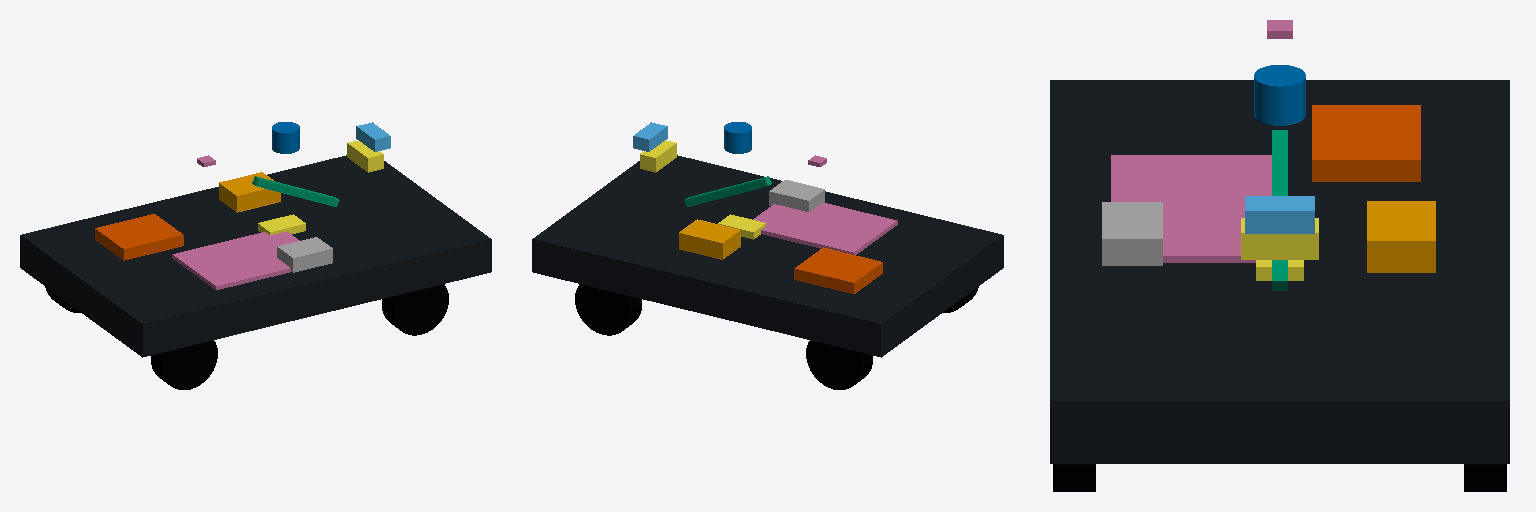
URDF robot description (autokart):
<?xml version="1.0"?>
<!-- Generated dependency-free structural URDF. SIMULATION USE ONLY; MEASUREMENT REQUIRED. -->
<robot name="autokart">
  <material name="frame"><color rgba="0.12 0.14 0.16 1"/></material>
  <material name="body"><color rgba="0.85 0.08 0.04 1"/></material>
  <material name="rubber"><color rgba="0.02 0.02 0.02 1"/></material>
  <link name="base_link"/>
  <link name="chassis_link"><inertial><origin xyz="0.05 0 0.30"/><mass value="91.95"/><inertia ixx="24" ixy="0" ixz="0" iyy="35" iyz="0" izz="35"/></inertial><visual><origin xyz="0.05 0 0.30"/><geometry><box size="1.75 1.06 0.16"/></geometry><material name="frame"/></visual><collision><origin xyz="0.05 0 0.30"/><geometry><box size="1.75 1.06 0.16"/></geometry></collision></link>
  <link name="front_axle_link"><inertial><mass value="3"/><inertia ixx=".2" ixy="0" ixz="0" iyy=".02" iyz="0" izz=".2"/></inertial><visual><geometry><box size=".08 .95 .08"/></geometry></visual><collision><geometry><box size=".08 .95 .08"/></geometry></collision></link>
  <link name="front_left_steer_link"><inertial><mass value=".8"/><inertia ixx=".01" ixy="0" ixz="0" iyy=".01" iyz="0" izz=".01"/></inertial><visual><geometry><box size=".10 .08 .16"/></geometry></visual><collision><geometry><box size=".10 .08 .16"/></geometry></collision></link>
  <link name="front_right_steer_link"><inertial><mass value=".8"/><inertia ixx=".01" ixy="0" ixz="0" iyy=".01" iyz="0" izz=".01"/></inertial><visual><geometry><box size=".10 .08 .16"/></geometry></visual><collision><geometry><box size=".10 .08 .16"/></geometry></collision></link>
  <link name="front_left_wheel_link"><inertial><mass value="2.2"/><inertia ixx=".025" ixy="0" ixz="0" iyy=".012" iyz="0" izz=".025"/></inertial><visual><origin rpy="1.570796 0 0"/><geometry><cylinder radius=".14" length=".10"/></geometry><material name="rubber"/></visual><collision><origin rpy="1.570796 0 0"/><geometry><cylinder radius=".14" length=".10"/></geometry></collision></link>
  <link name="front_right_wheel_link"><inertial><mass value="2.2"/><inertia ixx=".025" ixy="0" ixz="0" iyy=".012" iyz="0" izz=".025"/></inertial><visual><origin rpy="1.570796 0 0"/><geometry><cylinder radius=".14" length=".10"/></geometry><material name="rubber"/></visual><collision><origin rpy="1.570796 0 0"/><geometry><cylinder radius=".14" length=".10"/></geometry></collision></link>
  <link name="rear_axle_link"><inertial><mass value="3"/><inertia ixx=".12" ixy="0" ixz="0" iyy=".12" iyz="0" izz=".12"/></inertial><visual><origin rpy="1.570796 0 0"/><geometry><cylinder radius=".025" length=".92"/></geometry></visual><collision><origin rpy="1.570796 0 0"/><geometry><cylinder radius=".025" length=".92"/></geometry></collision></link>
  <link name="rear_left_wheel_link"><inertial><mass value="2.4"/><inertia ixx=".025" ixy="0" ixz="0" iyy=".012" iyz="0" izz=".025"/></inertial><visual><origin rpy="1.570796 0 0"/><geometry><cylinder radius=".14" length=".10"/></geometry><material name="rubber"/></visual><collision><origin rpy="1.570796 0 0"/><geometry><cylinder radius=".14" length=".10"/></geometry></collision></link>
  <link name="rear_right_wheel_link"><inertial><mass value="2.4"/><inertia ixx=".025" ixy="0" ixz="0" iyy=".012" iyz="0" izz=".025"/></inertial><visual><origin rpy="1.570796 0 0"/><geometry><cylinder radius=".14" length=".10"/></geometry><material name="rubber"/></visual><collision><origin rpy="1.570796 0 0"/><geometry><cylinder radius=".14" length=".10"/></geometry></collision></link>
  <link name="steering_column_link"><inertial><mass value="1.2"/><inertia ixx=".01" ixy="0" ixz="0" iyy=".03" iyz="0" izz=".03"/></inertial><visual><geometry><box size=".45 .035 .035"/></geometry></visual><collision><geometry><box size=".45 .035 .035"/></geometry></collision></link>
  <link name="steering_actuator_link"><inertial><mass value="1.5"/><inertia ixx=".01" ixy="0" ixz="0" iyy=".01" iyz="0" izz=".01"/></inertial><visual><geometry><box size=".18 .11 .11"/></geometry></visual><collision><geometry><box size=".18 .11 .11"/></geometry></collision></link>
  <link name="brake_actuator_link"><inertial><mass value="1.5"/><inertia ixx=".01" ixy="0" ixz="0" iyy=".01" iyz="0" izz=".01"/></inertial><visual><geometry><box size=".18 .12 .10"/></geometry></visual><collision><geometry><box size=".18 .12 .10"/></geometry></collision></link>
  <link name="motor_link"><inertial><mass value="8"/><inertia ixx=".08" ixy="0" ixz="0" iyy=".08" iyz="0" izz=".08"/></inertial><visual><geometry><box size=".30 .25 .25"/></geometry></visual><collision><geometry><box size=".30 .25 .25"/></geometry></collision></link>
  <link name="battery_link"><inertial><mass value="20"/><inertia ixx=".35" ixy="0" ixz="0" iyy=".6" iyz="0" izz=".7"/></inertial><visual><geometry><box size=".55 .38 .20"/></geometry></visual><collision><geometry><box size=".55 .38 .20"/></geometry></collision></link>
  <link name="vcu_link"><inertial><mass value="1"/><inertia ixx=".01" ixy="0" ixz="0" iyy=".01" iyz="0" izz=".01"/></inertial><visual><geometry><box size=".20 .14 .07"/></geometry></visual><collision><geometry><box size=".20 .14 .07"/></geometry></collision></link>
  <link name="compute_link"><inertial><mass value="1.8"/><inertia ixx=".02" ixy="0" ixz="0" iyy=".02" iyz="0" izz=".02"/></inertial><visual><geometry><box size=".22 .16 .08"/></geometry></visual><collision><geometry><box size=".22 .16 .08"/></geometry></collision></link>
  <link name="camera_link"><inertial><mass value=".2"/><inertia ixx=".001" ixy="0" ixz="0" iyy=".001" iyz="0" izz=".001"/></inertial><visual><geometry><box size=".08 .16 .06"/></geometry></visual><collision><geometry><box size=".08 .16 .06"/></geometry></collision></link>
  <link name="camera_optical_frame"/>
  <link name="depth_camera_link"><inertial><mass value=".25"/><inertia ixx=".001" ixy="0" ixz="0" iyy=".001" iyz="0" izz=".001"/></inertial><visual><geometry><box size=".08 .18 .07"/></geometry></visual><collision><geometry><box size=".08 .18 .07"/></geometry></collision></link>
  <link name="lidar_link"><inertial><mass value=".6"/><inertia ixx=".002" ixy="0" ixz="0" iyy=".002" iyz="0" izz=".002"/></inertial><visual><geometry><cylinder radius=".06" length=".10"/></geometry></visual><collision><geometry><cylinder radius=".06" length=".10"/></geometry></collision></link>
  <link name="imu_link"><inertial><mass value=".1"/><inertia ixx=".0001" ixy="0" ixz="0" iyy=".0001" iyz="0" izz=".0001"/></inertial><visual><geometry><box size=".05 .04 .02"/></geometry></visual><collision><geometry><box size=".05 .04 .02"/></geometry></collision></link>
  <link name="gps_link"><inertial><mass value=".1"/><inertia ixx=".0001" ixy="0" ixz="0" iyy=".0001" iyz="0" izz=".0001"/></inertial><visual><geometry><box size=".06 .06 .02"/></geometry></visual><collision><geometry><box size=".06 .06 .02"/></geometry></collision></link>

  <joint name="base_to_chassis" type="fixed"><parent link="base_link"/><child link="chassis_link"/></joint>
  <joint name="front_axle_mount" type="fixed"><parent link="chassis_link"/><child link="front_axle_link"/><origin xyz=".575 0 .14"/></joint>
  <joint name="front_left_steering_joint" type="revolute"><parent link="front_axle_link"/><child link="front_left_steer_link"/><origin xyz="0 .475 0"/><axis xyz="0 0 1"/><limit lower="-.558505" upper=".558505" effort="300" velocity="3"/></joint>
  <joint name="front_right_steering_joint" type="revolute"><parent link="front_axle_link"/><child link="front_right_steer_link"/><origin xyz="0 -.475 0"/><axis xyz="0 0 1"/><limit lower="-.558505" upper=".558505" effort="300" velocity="3"/></joint>
  <joint name="front_left_wheel_joint" type="continuous"><parent link="front_left_steer_link"/><child link="front_left_wheel_link"/><axis xyz="0 1 0"/></joint>
  <joint name="front_right_wheel_joint" type="continuous"><parent link="front_right_steer_link"/><child link="front_right_wheel_link"/><axis xyz="0 1 0"/></joint>
  <joint name="rear_solid_axle_joint" type="continuous"><parent link="chassis_link"/><child link="rear_axle_link"/><origin xyz="-.575 0 .14"/><axis xyz="0 1 0"/><dynamics damping=".2"/></joint>
  <joint name="rear_left_wheel_rigid_joint" type="fixed"><parent link="rear_axle_link"/><child link="rear_left_wheel_link"/><origin xyz="0 .46 0"/></joint>
  <joint name="rear_right_wheel_rigid_joint" type="fixed"><parent link="rear_axle_link"/><child link="rear_right_wheel_link"/><origin xyz="0 -.46 0"/></joint>
  <joint name="steering_column_joint" type="revolute"><parent link="chassis_link"/><child link="steering_column_link"/><origin xyz=".25 0 .55" rpy="0 .45 0"/><axis xyz="1 0 0"/><limit lower="-1.5" upper="1.5" effort="20" velocity="6"/></joint>
  <joint name="steering_actuator_joint" type="revolute"><parent link="chassis_link"/><child link="steering_actuator_link"/><origin xyz=".18 0 .36"/><axis xyz="1 0 0"/><limit lower="-1.5" upper="1.5" effort="20" velocity="6"/></joint>
  <joint name="brake_actuator_joint" type="prismatic"><parent link="chassis_link"/><child link="brake_actuator_link"/><origin xyz="-.05 .30 .28"/><axis xyz="1 0 0"/><limit lower="0" upper=".025" effort="4000" velocity=".3"/></joint>
  <joint name="motor_mount" type="fixed"><parent link="chassis_link"/><child link="motor_link"/><origin xyz="-.42 .20 .31"/></joint>
  <joint name="battery_mount" type="fixed"><parent link="chassis_link"/><child link="battery_link"/><origin xyz="-.10 -.20 .30"/></joint>
  <joint name="vcu_mount" type="fixed"><parent link="chassis_link"/><child link="vcu_link"/><origin xyz=".10 -.34 .42"/></joint>
  <joint name="compute_mount" type="fixed"><parent link="chassis_link"/><child link="compute_link"/><origin xyz=".18 .28 .45"/></joint>
  <joint name="camera_mount" type="fixed"><parent link="chassis_link"/><child link="camera_link"/><origin xyz=".64 0 .72"/></joint>
  <joint name="camera_optical_joint" type="fixed"><parent link="camera_link"/><child link="camera_optical_frame"/><origin rpy="-1.570796 0 -1.570796"/></joint>
  <joint name="depth_camera_mount" type="fixed"><parent link="chassis_link"/><child link="depth_camera_link"/><origin xyz=".60 0 .64"/></joint>
  <joint name="lidar_mount" type="fixed"><parent link="chassis_link"/><child link="lidar_link"/><origin xyz=".20 0 .82"/></joint>
  <joint name="imu_mount" type="fixed"><parent link="chassis_link"/><child link="imu_link"/><origin xyz=".05 0 .30"/></joint>
  <joint name="gps_mount" type="fixed"><parent link="chassis_link"/><child link="gps_link"/><origin xyz="-.20 0 .80"/></joint>
</robot>

--- Render facts (derived) ---
3 views of the same robot in one strip: view 1: azimuth 30°, elevation 25°; view 2: azimuth 150°, elevation 25°; view 3: azimuth 270°, elevation 25° (orthographic).
Model autokart with 23 links and 22 joints (4 revolute, 3 continuous, 1 prismatic, 14 fixed), rooted at base_link, posed all joints at 0.
Visible links, largest first — view 1: chassis_link, battery_link, motor_link, front_right_wheel_link, rear_right_wheel_link, compute_link, vcu_link, steering_column_link, lidar_link, depth_camera_link, camera_link, steering_actuator_link; view 2: chassis_link, battery_link, motor_link, front_left_wheel_link, rear_left_wheel_link, compute_link, vcu_link, steering_column_link, lidar_link, depth_camera_link, camera_link, steering_actuator_link; view 3: chassis_link, battery_link, motor_link, compute_link, vcu_link, lidar_link, camera_link, depth_camera_link, steering_column_link, front_left_wheel_link, front_right_wheel_link, steering_actuator_link.
Link boxes in pixels (box(x1,y1,x2,y2)): chassis_link: box(20, 155, 491, 357); battery_link: box(172, 232, 299, 289); motor_link: box(95, 214, 183, 260); front_right_wheel_link: box(382, 284, 448, 335); rear_right_wheel_link: box(151, 340, 217, 389); compute_link: box(219, 172, 280, 212); vcu_link: box(277, 237, 332, 272); steering_column_link: box(252, 176, 339, 206); lidar_link: box(272, 122, 299, 153); depth_camera_link: box(347, 140, 383, 172); camera_link: box(356, 122, 390, 151); steering_actuator_link: box(258, 214, 305, 234); chassis_link: box(532, 155, 1003, 357); battery_link: box(753, 203, 897, 254); motor_link: box(794, 247, 882, 293); front_left_wheel_link: box(575, 284, 641, 335); rear_left_wheel_link: box(806, 340, 872, 389); compute_link: box(679, 219, 740, 259); vcu_link: box(769, 180, 824, 211); steering_column_link: box(684, 176, 771, 206); lidar_link: box(724, 122, 751, 153); depth_camera_link: box(640, 140, 676, 172); camera_link: box(633, 122, 667, 151); steering_actuator_link: box(718, 214, 765, 239); chassis_link: box(1050, 80, 1509, 463); battery_link: box(1111, 155, 1271, 262); motor_link: box(1312, 105, 1420, 181); compute_link: box(1367, 201, 1435, 272); vcu_link: box(1102, 202, 1162, 265); lidar_link: box(1254, 65, 1305, 125); camera_link: box(1245, 196, 1314, 233); depth_camera_link: box(1241, 218, 1318, 259); steering_column_link: box(1272, 130, 1287, 290); front_left_wheel_link: box(1464, 464, 1506, 491); front_right_wheel_link: box(1053, 464, 1095, 491); steering_actuator_link: box(1256, 260, 1303, 280).
Bounding box of the posed robot: 1.75 × 1.06 × 0.87 m (x, y, z).
Geometry: primitives only (box / cylinder / sphere), no mesh files.
